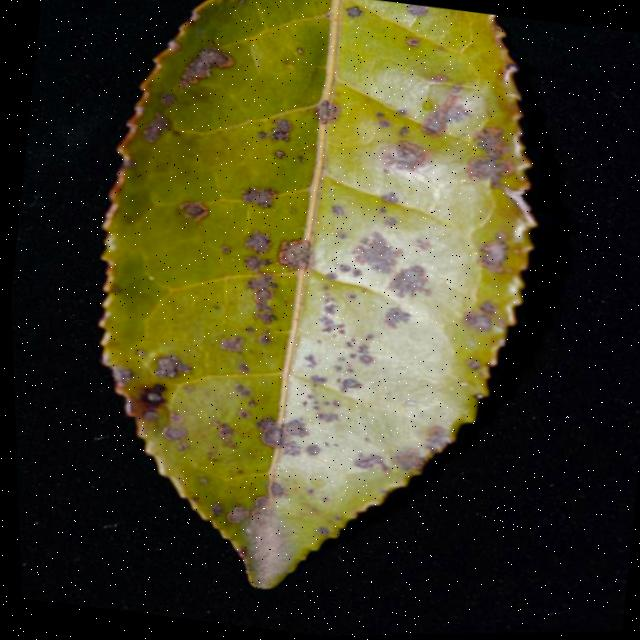Tea red rust: (49, 0, 558, 611)
